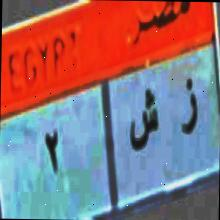2: (42, 116, 62, 186)
sheen: (130, 82, 160, 162)
zay: (180, 74, 202, 146)
